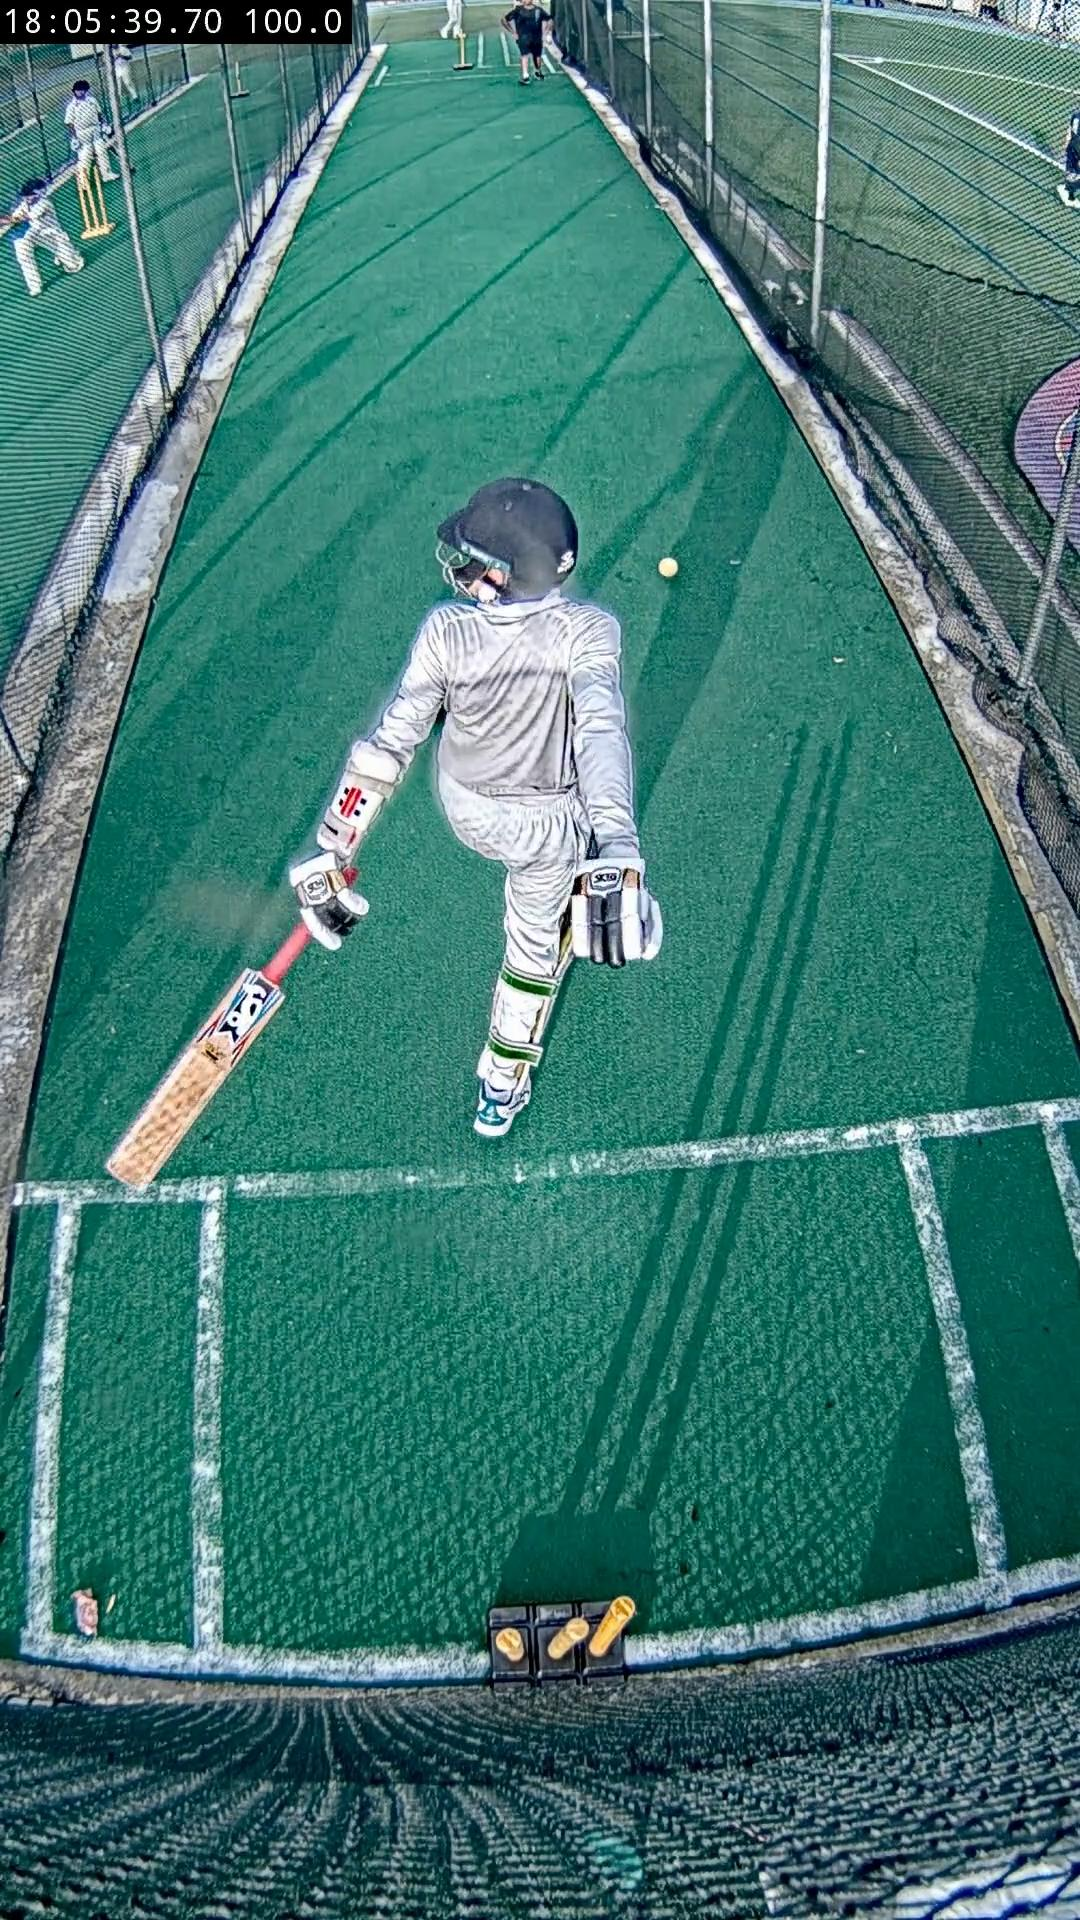ball: (657, 559, 679, 576)
bat: (105, 923, 311, 1188)
gloves: (570, 858, 663, 965), (289, 852, 368, 948)
helmet: (435, 476, 578, 600)
stumps: (488, 1594, 637, 1681)
